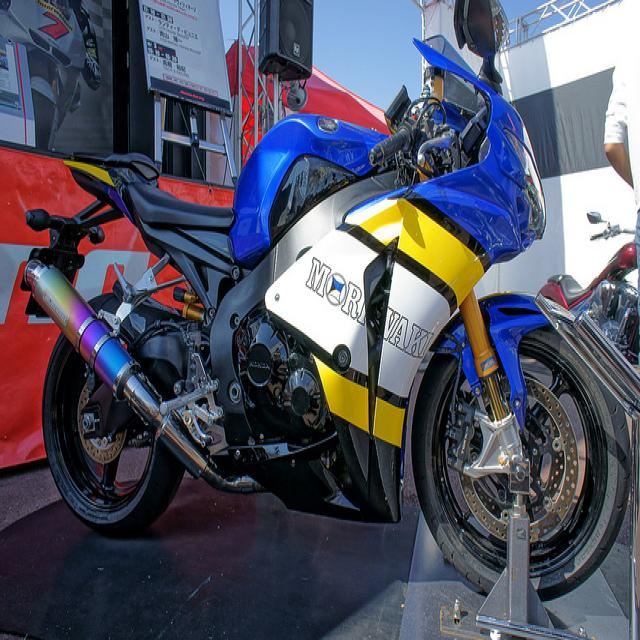motor: (19, 0, 631, 602), (542, 203, 640, 410)
